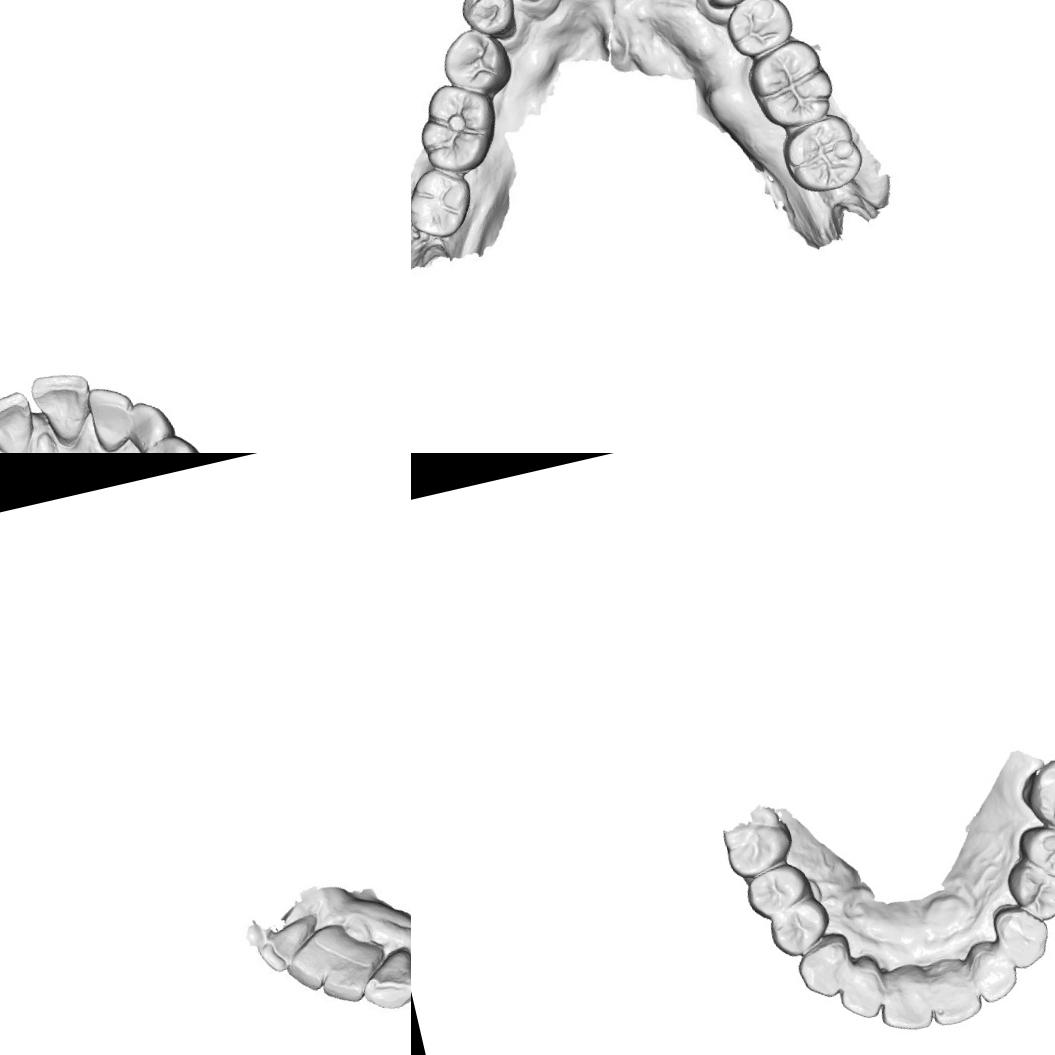canine: (987, 898, 1055, 975), (792, 937, 856, 1004), (353, 943, 411, 1016), (123, 396, 178, 452)
incisor: (28, 365, 102, 453), (870, 962, 938, 1040), (920, 954, 986, 1030), (82, 379, 142, 453), (314, 943, 380, 1010), (254, 912, 324, 975), (964, 940, 1024, 1008), (832, 960, 888, 1028), (280, 934, 340, 996), (0, 387, 43, 453)
molar: (740, 31, 842, 137), (773, 110, 869, 201), (412, 81, 498, 172), (718, 814, 798, 882), (411, 166, 477, 244), (1017, 751, 1055, 846)
premolar: (436, 20, 519, 106), (764, 896, 838, 962), (740, 858, 815, 923), (721, 0, 795, 63), (1002, 852, 1055, 928), (456, 0, 526, 49), (1015, 816, 1055, 888), (126, 431, 203, 453)
